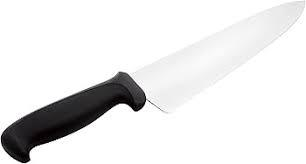Knife: (0, 0, 305, 162)
